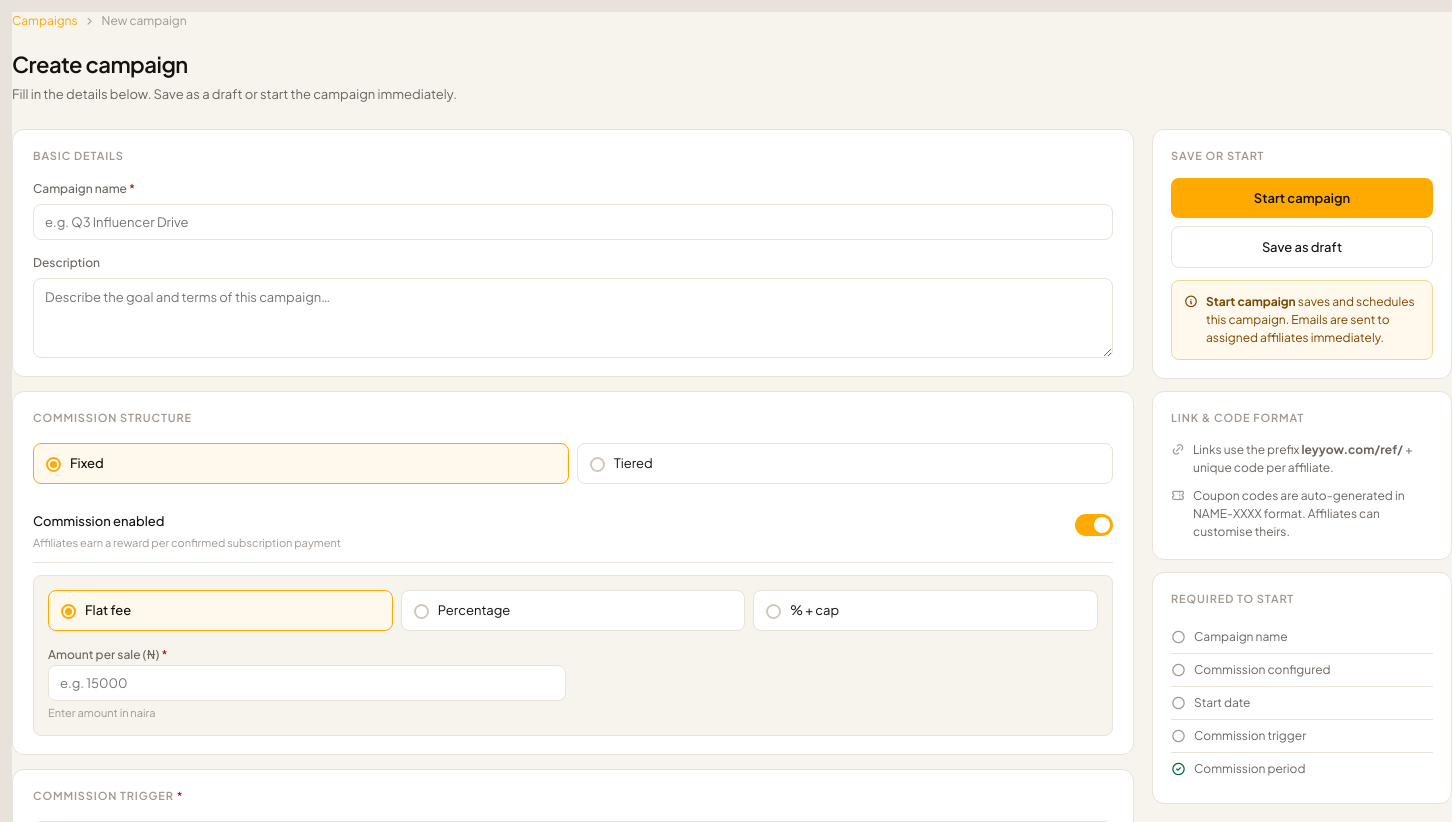
Scenario: fixed — commission type › cap field appears when percentage is selected
This screenshot has width=1452, height=822.
Click the element with class "radio-opt" showing "Percentage" at coordinates (573, 611), box [401,590,745,631]
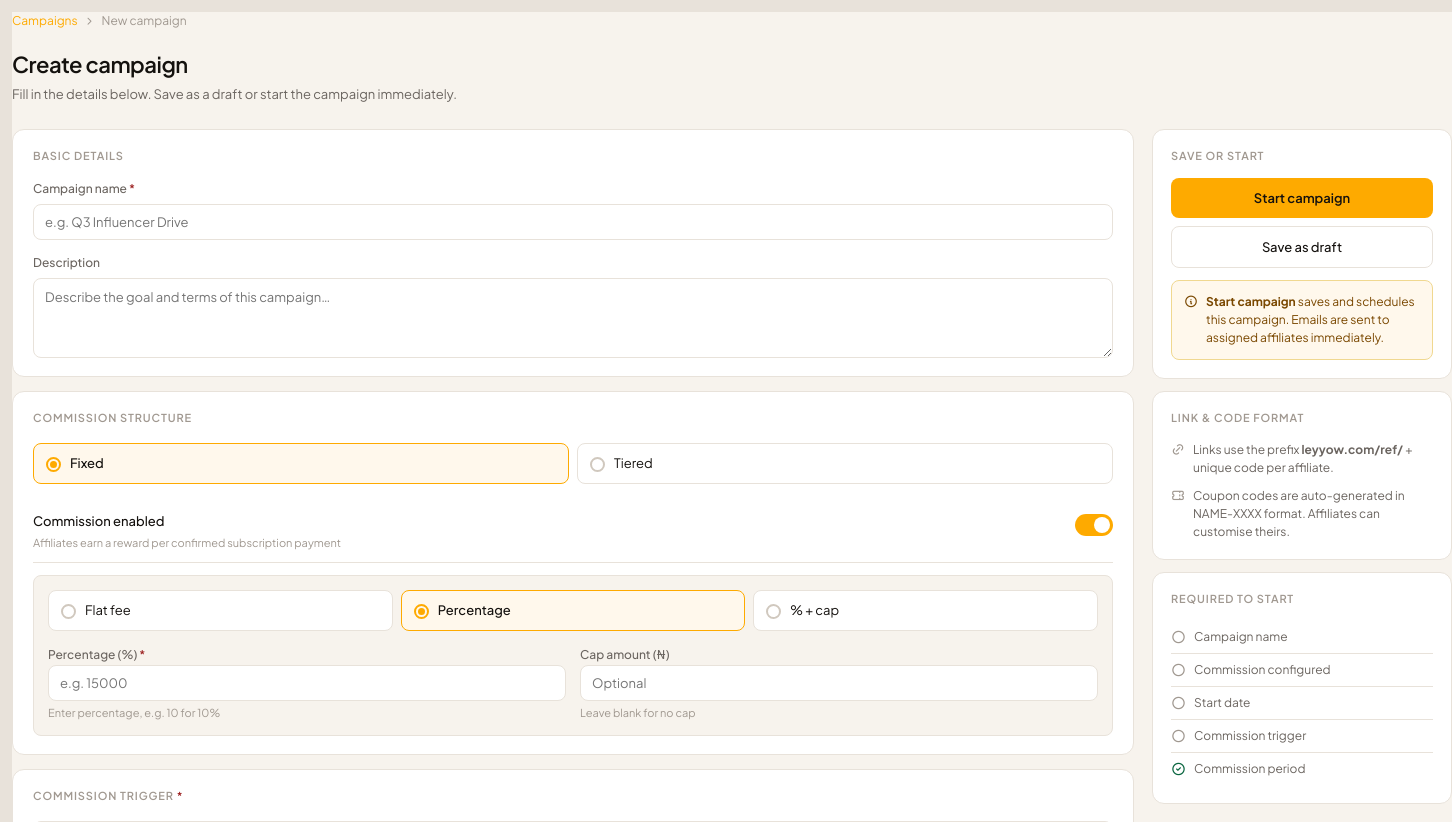
Result: the number field with placeholder "Optional" is shown at [580,665,1098,701]
